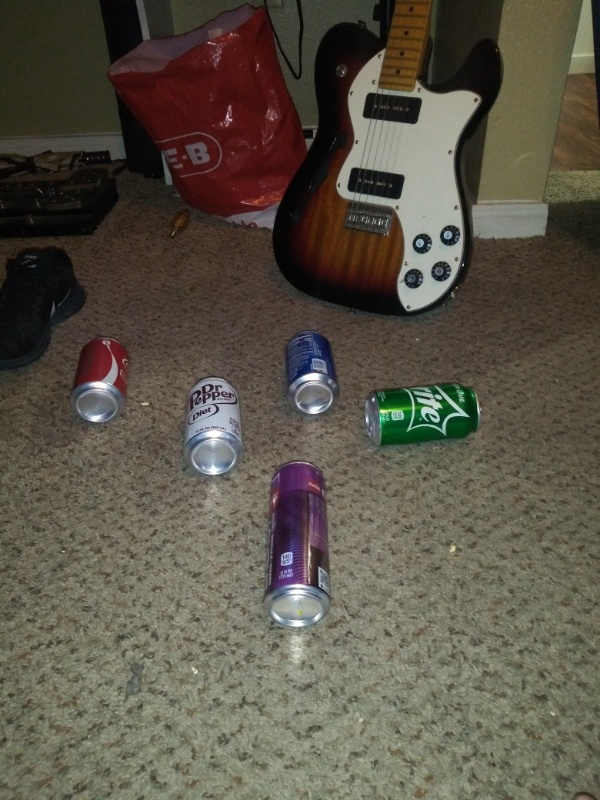can: (265, 460, 338, 630), (362, 383, 485, 447), (185, 373, 248, 476), (69, 335, 132, 428), (281, 328, 343, 419)
